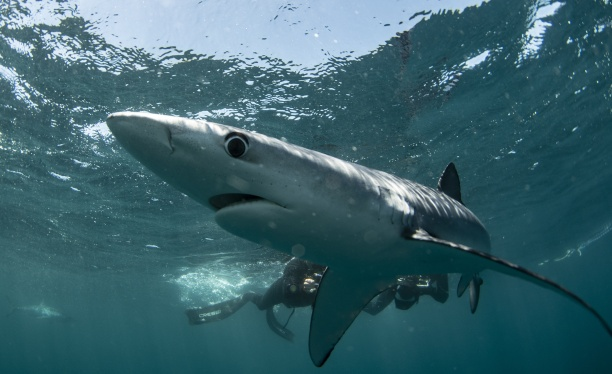Azul: (79, 85, 610, 374)
